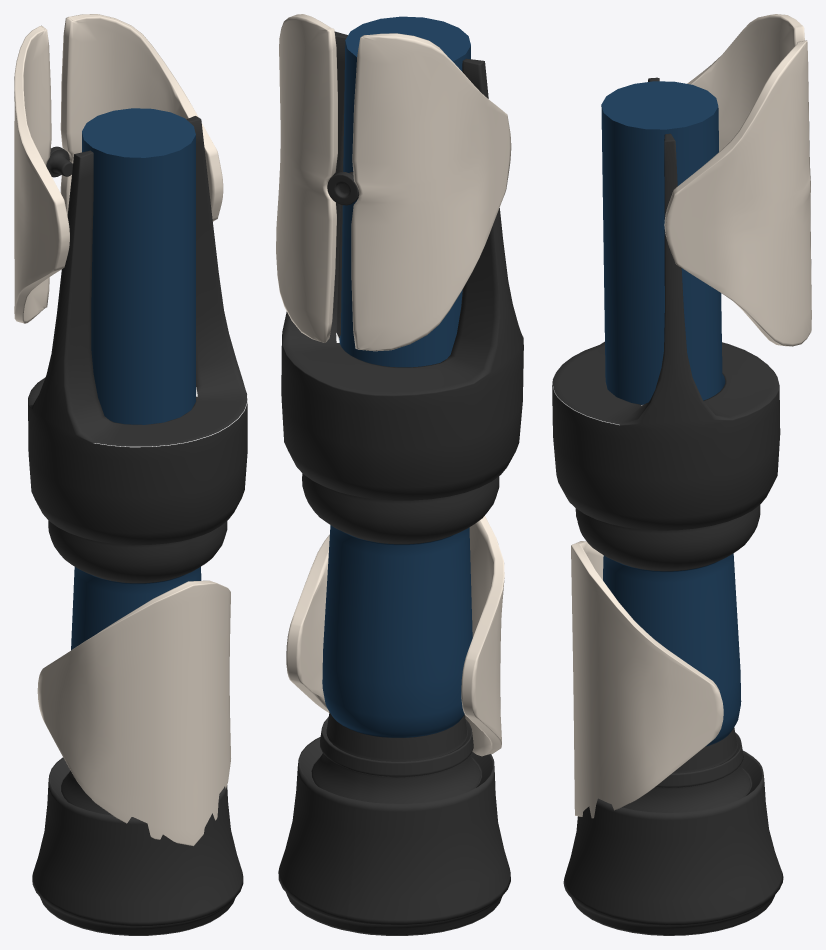
The model's file is hero.FBX.
3 views of the same model, side by side, from view 1: azimuth 30°, elevation 25°; view 2: azimuth 150°, elevation 25°; view 3: azimuth 270°, elevation 25° (orthographic). The views are drawn at different scales.
Visible parts, largest first — view 1: Box001; view 2: Box001; view 3: Box001.
Part boxes in pixels (bbox=[...]): Box001: bbox=[14, 14, 247, 935]; Box001: bbox=[276, 14, 523, 935]; Box001: bbox=[552, 14, 811, 935].
Bounding box in the file's own units: 0.1152 × 0.4818 × 0.1328.
Materials: 5 (2 with a texture image).
